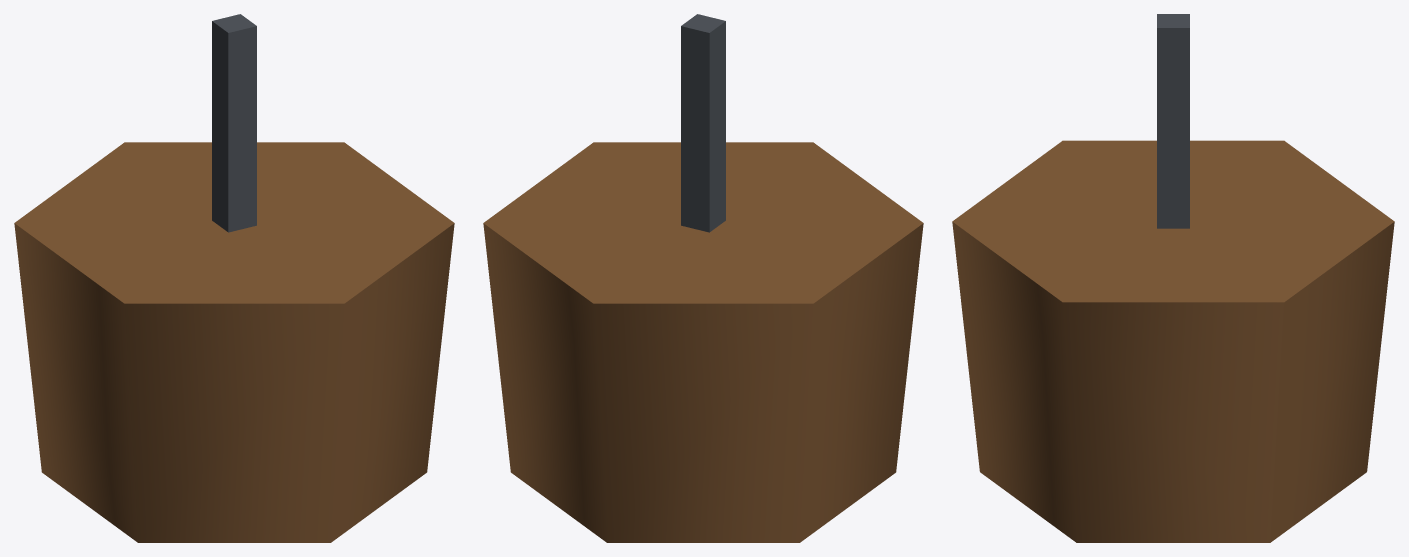
File: tool_bucket.glb
The picture shows the model from 3 angles, left to right: view 1: azimuth 30°, elevation 25°; view 2: azimuth 150°, elevation 25°; view 3: azimuth 270°, elevation 25°; orthographic projection.
Visible parts, largest first — view 1: tool_bucket; view 2: tool_bucket; view 3: tool_bucket.
Part boxes in pixels (<box>): tool_bucket: <box>14,14,454,542</box>; tool_bucket: <box>483,14,923,542</box>; tool_bucket: <box>952,14,1394,542</box>.
Size of the model in its own units: 0.0693 by 0.09 by 0.08.
